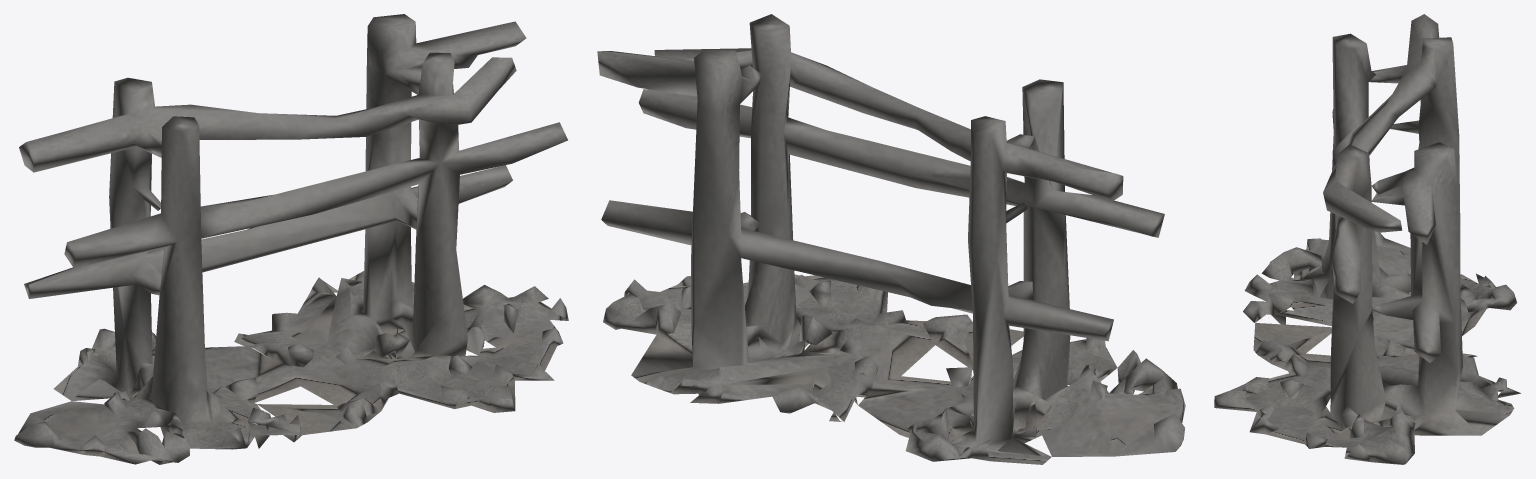
Rendered from prp_fence_a.glb.
3 views of the same model, side by side, from view 1: azimuth 30°, elevation 25°; view 2: azimuth 150°, elevation 25°; view 3: azimuth 270°, elevation 25° (orthographic). The views are drawn at different scales.
Parts seen in each view (by area): view 1: prp_fence_a; view 2: prp_fence_a; view 3: prp_fence_a.
Part boxes in pixels (x1,y1,x2,y2): prp_fence_a: (14, 14, 568, 464); prp_fence_a: (597, 14, 1185, 464); prp_fence_a: (1214, 14, 1520, 464).
Bounding box in the file's own units: 2.14 × 1.2 × 1.2.
1 material, 1 textured.
